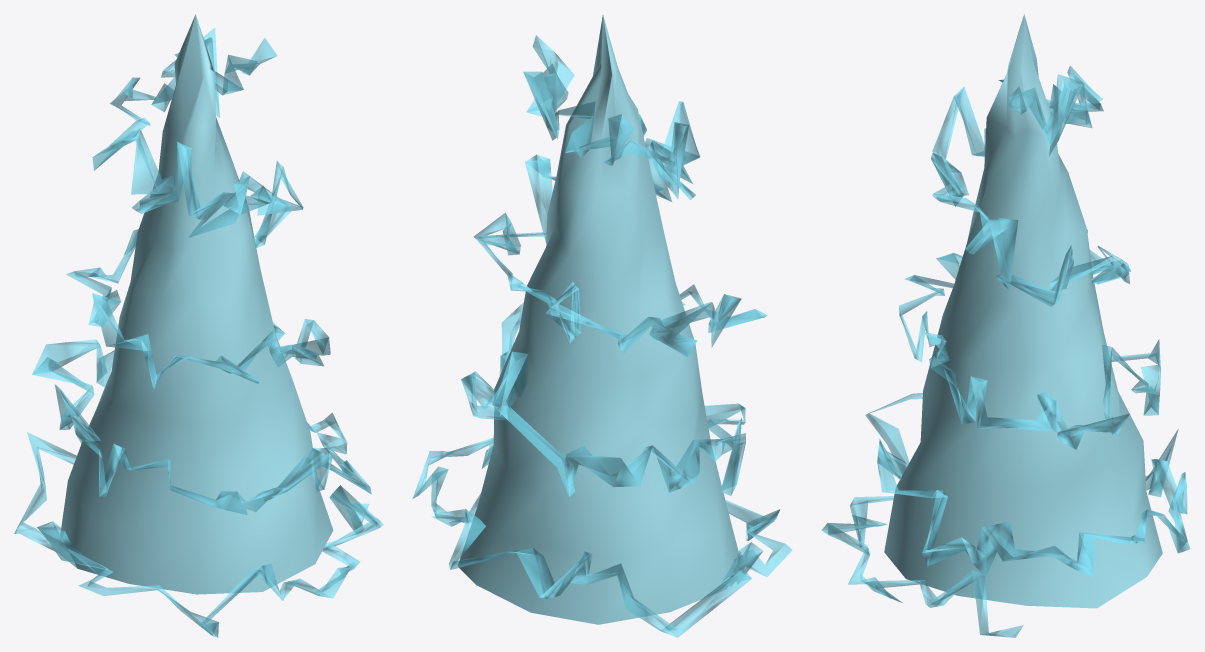
The model's file is Beam2.FBX.
The picture shows the model from 3 angles, left to right: view 1: azimuth 30°, elevation 25°; view 2: azimuth 150°, elevation 25°; view 3: azimuth 270°, elevation 25°; orthographic projection. The views are drawn at different scales.
Parts seen in each view (by area): view 1: Cone001, Helix001; view 2: Cone001, Helix001; view 3: Cone001, Helix001.
Part boxes in pixels (bbox=[...]): Cone001: bbox=[60, 14, 333, 594]; Helix001: bbox=[14, 28, 383, 637]; Cone001: bbox=[458, 15, 739, 624]; Helix001: bbox=[412, 35, 792, 637]; Cone001: bbox=[884, 14, 1162, 608]; Helix001: bbox=[822, 65, 1190, 637].
Size of the model in its own units: 549 by 877 by 521.
